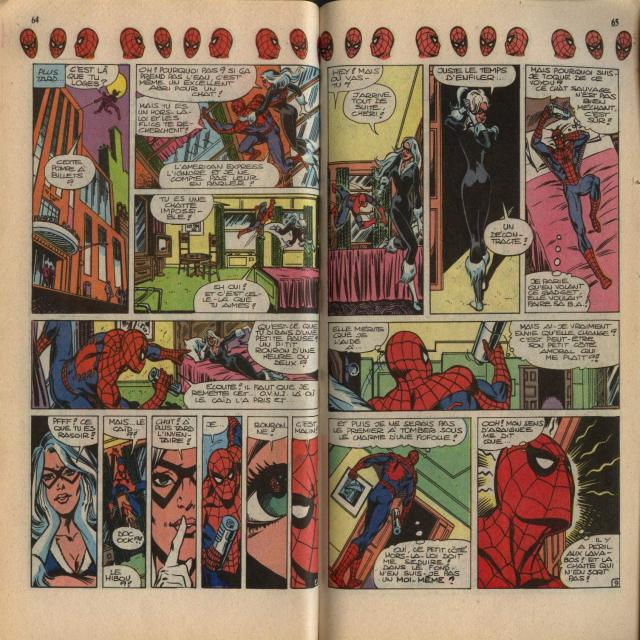comic_panel: (326, 317, 622, 414), (29, 318, 321, 412), (29, 61, 131, 317), (326, 416, 472, 591), (476, 415, 622, 589), (327, 64, 426, 318), (522, 64, 620, 315), (134, 63, 323, 190), (427, 62, 521, 315), (133, 192, 322, 316), (29, 414, 99, 592), (148, 414, 198, 590), (102, 414, 148, 590), (244, 415, 288, 592), (202, 415, 244, 591), (525, 65, 619, 137), (290, 414, 321, 591)
